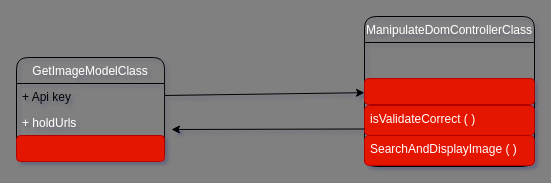
Some shapes in this 551 by 183 pixel diagram are drawn without their labels. Here are the shapes that lost their labels. From the top down, the centre of each, then its label:
At pixel 449 91: "getELemId ( )".
At pixel 90 148: "getListOfImages ( )".
